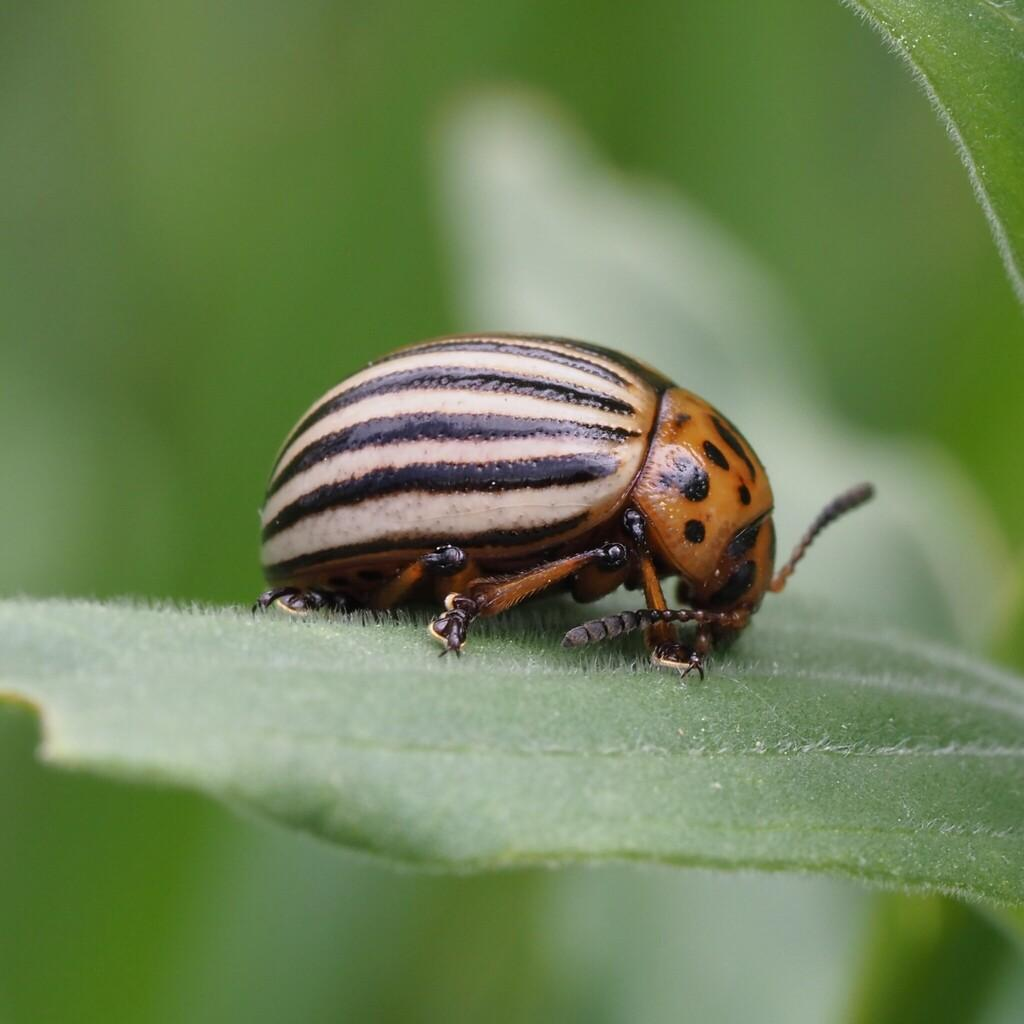potato_beetle: (170, 265, 908, 738)
